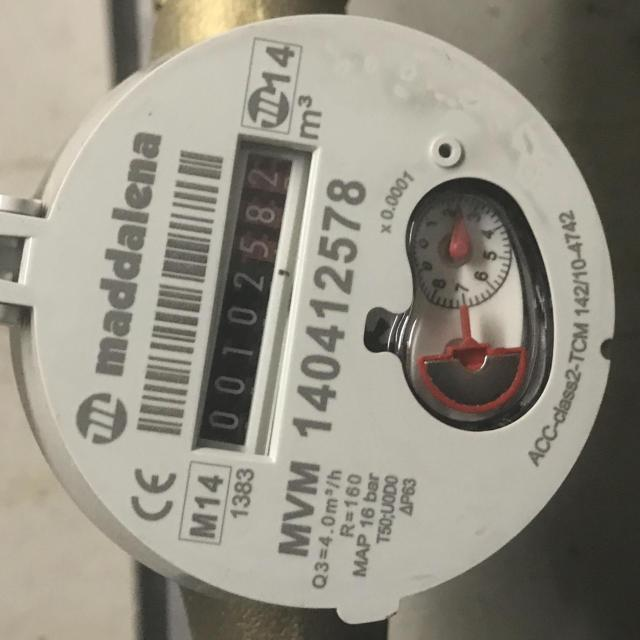gaz_meter: (28, 19, 616, 613)
indication: (194, 136, 307, 450)
